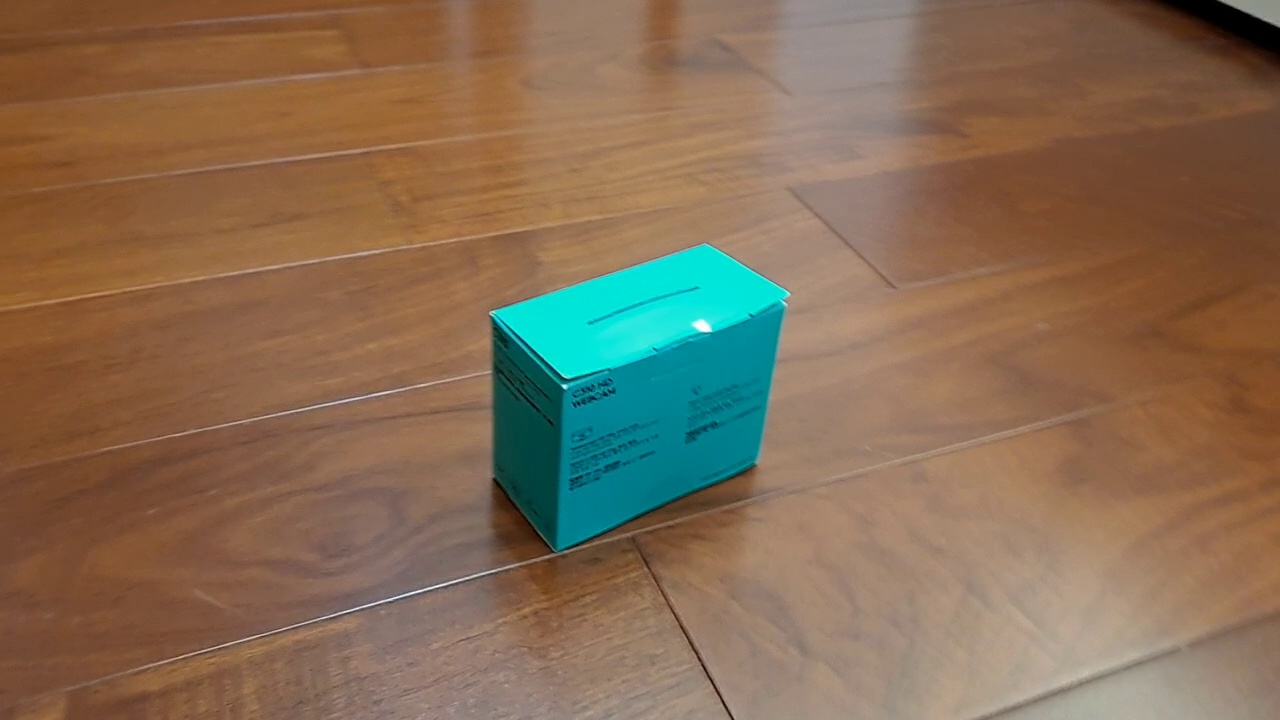webcam: (487, 240, 793, 555)
